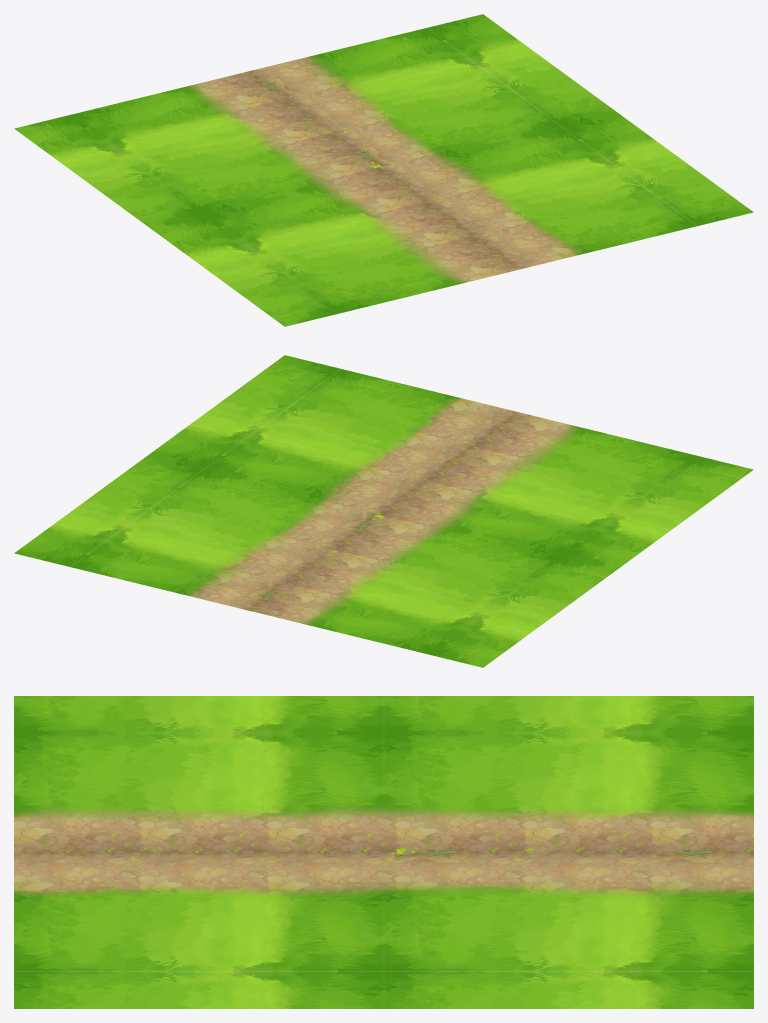
3 renders of one model, top to bottom at view 1: azimuth 30°, elevation 25°; view 2: azimuth 150°, elevation 25°; view 3: azimuth 270°, elevation 25°, orthographic. The views are drawn at different scales.
Visible parts, largest first — view 1: Plane.001; view 2: Plane.001; view 3: Plane.001.
Part boxes in pixels (x1,y1,x2,y2): Plane.001: [14, 14, 753, 326]; Plane.001: [14, 355, 753, 667]; Plane.001: [14, 696, 753, 1008].
Size of the model in its own units: 80 by 0 by 80.
